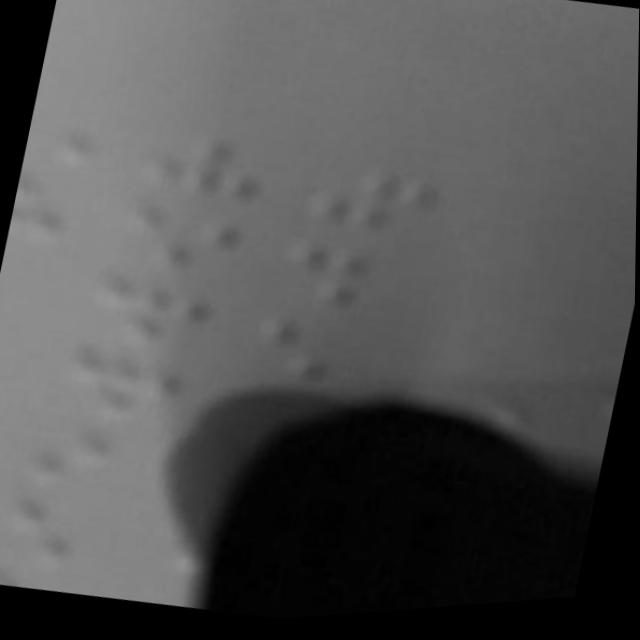braiile: (94, 188, 261, 303), (235, 305, 399, 417), (269, 232, 434, 340), (287, 157, 453, 263), (42, 339, 197, 451), (68, 267, 229, 374), (125, 124, 281, 229), (0, 489, 150, 592), (19, 415, 168, 516)
